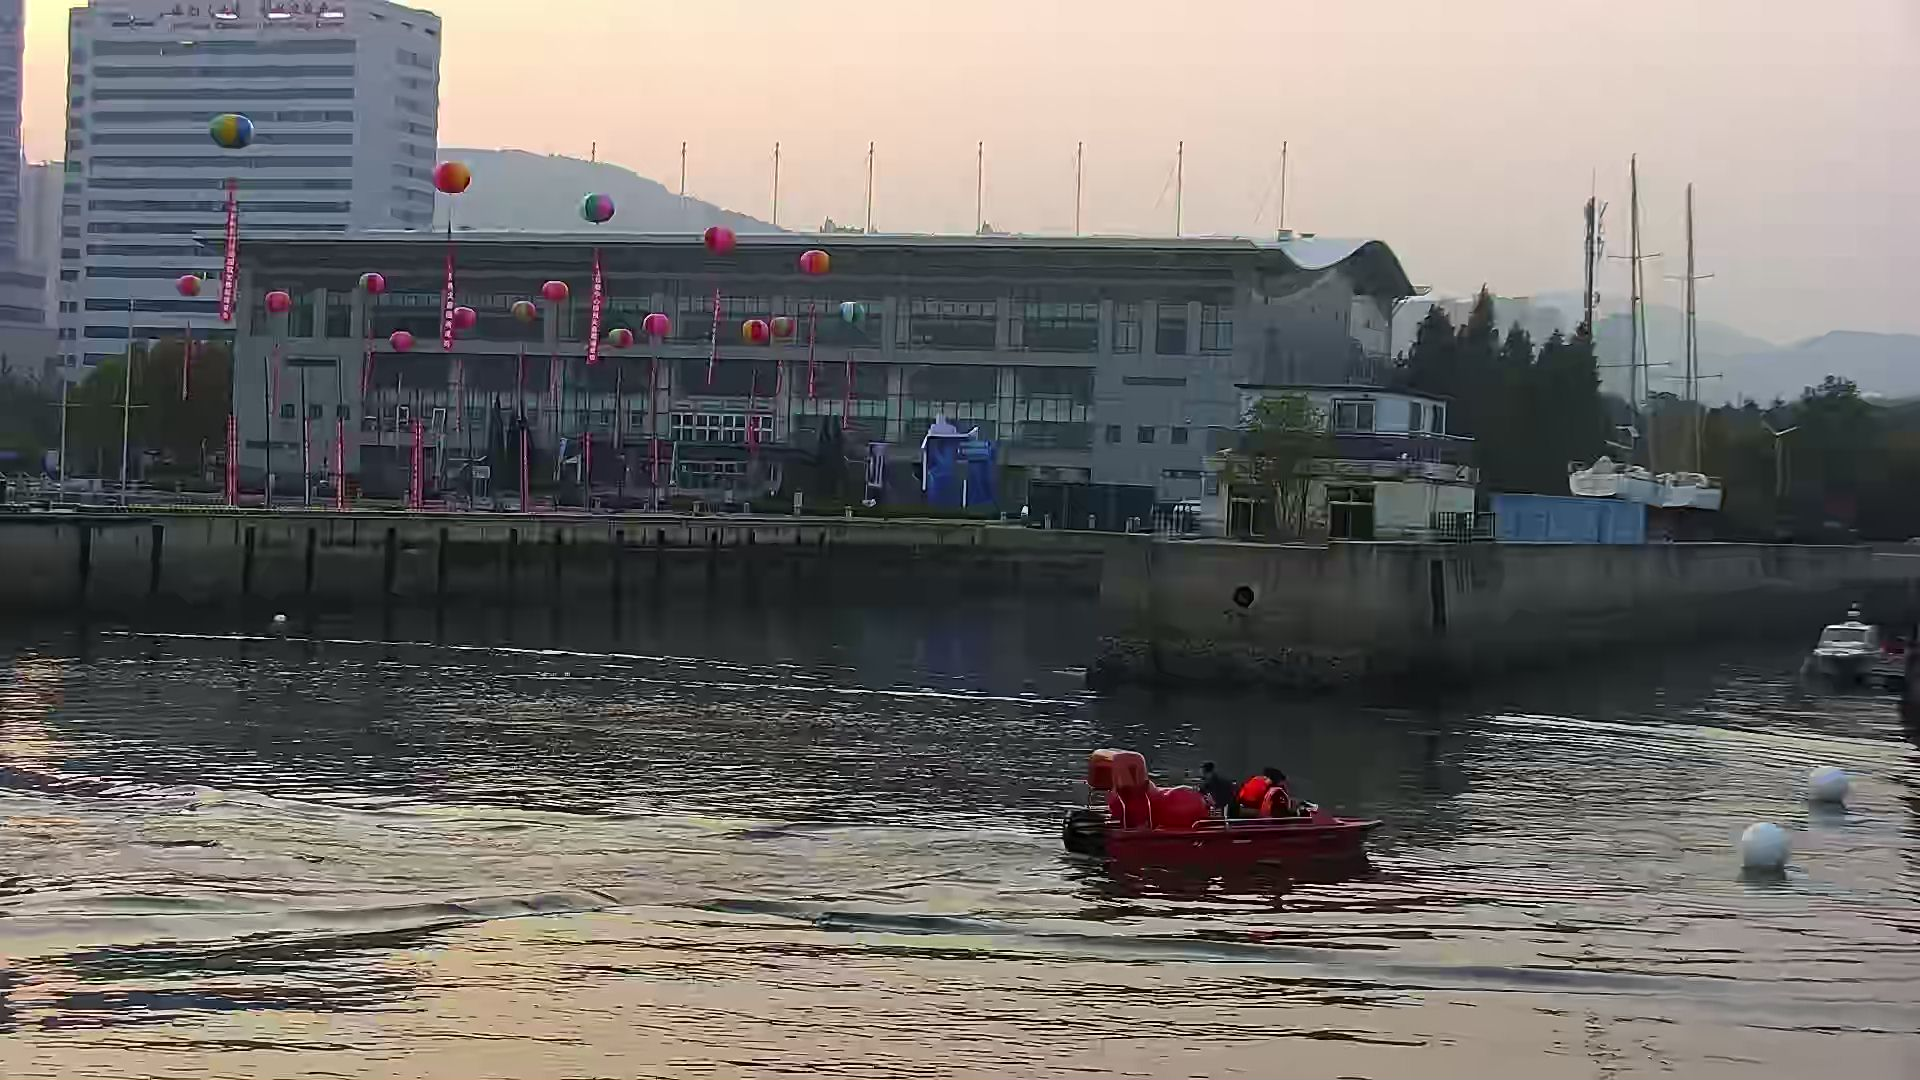ball: (1735, 818, 1801, 878), (1804, 758, 1852, 810)
boat: (1063, 739, 1385, 873)
person: (1197, 759, 1238, 822), (1259, 768, 1295, 821)
ship: (1810, 604, 1890, 687)
